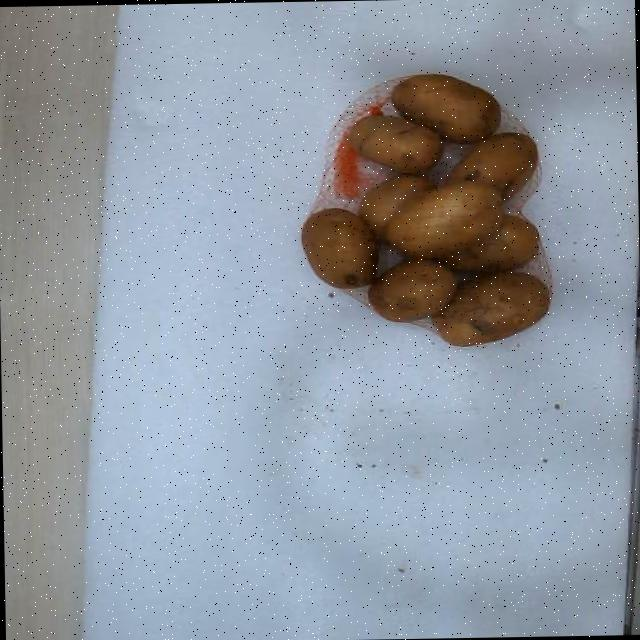potato: (384, 181, 502, 257), (433, 271, 548, 345), (391, 73, 499, 141), (300, 207, 376, 287), (448, 133, 536, 198), (368, 258, 456, 320), (347, 114, 441, 172), (441, 213, 538, 269), (360, 174, 433, 233)
